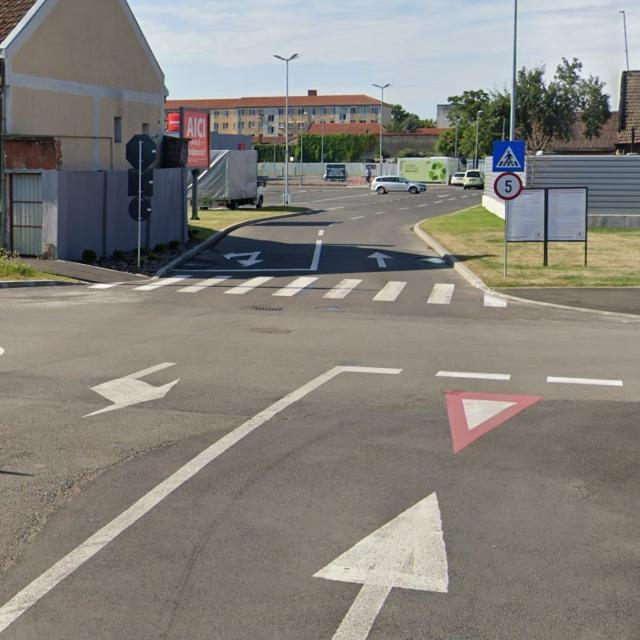info_crosswalk: (492, 140, 525, 172)
prio_give_way: (444, 389, 547, 455)
